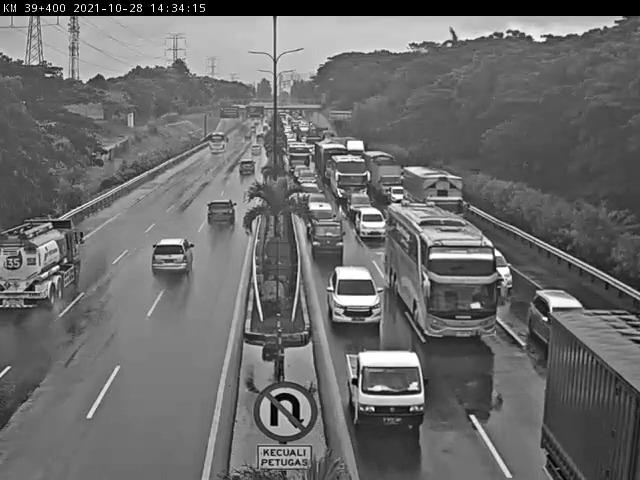big bus: (383, 202, 494, 337), (330, 156, 366, 199), (286, 142, 312, 172)
big truck: (0, 214, 85, 312), (403, 164, 464, 218), (319, 146, 345, 179)
car: (341, 346, 424, 429), (327, 269, 383, 327), (524, 284, 578, 340), (152, 237, 194, 276), (308, 219, 346, 258), (353, 204, 387, 240), (487, 243, 509, 289), (206, 196, 240, 223), (308, 206, 341, 232), (347, 191, 370, 217), (304, 191, 329, 211), (387, 184, 408, 205), (297, 175, 317, 193), (293, 164, 316, 179), (237, 159, 255, 177)
small truck: (368, 159, 404, 198)
